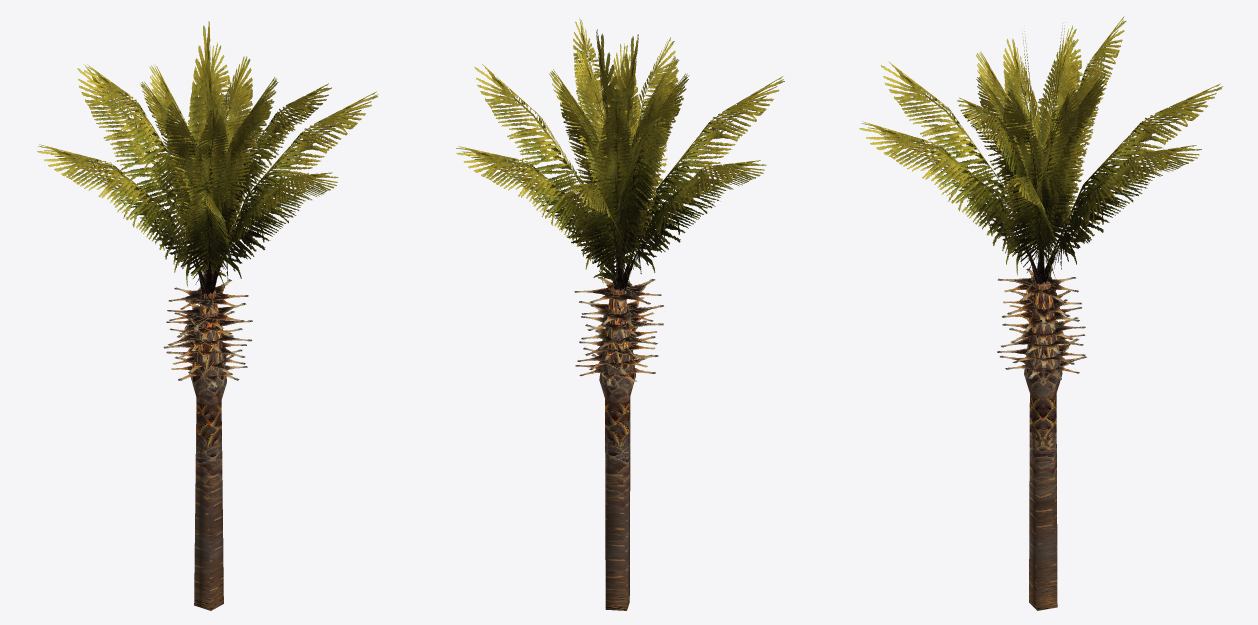
File: palm_date_new_6.glb
3 renders of one model, left to right at view 1: azimuth 30°, elevation 25°; view 2: azimuth 150°, elevation 25°; view 3: azimuth 270°, elevation 25°, orthographic. The views are drawn at different scales.
Parts seen in each view (by area): view 1: palm_date_new_6; view 2: palm_date_new_6; view 3: palm_date_new_6.
Boxes of the visible parts, box(x1,y1,x2,y2) form: palm_date_new_6: box(37, 21, 378, 610); palm_date_new_6: box(456, 17, 784, 610); palm_date_new_6: box(859, 16, 1223, 610).
Size of the model in its own units: 10.57 by 16.84 by 10.36.
1 material, 1 textured.
